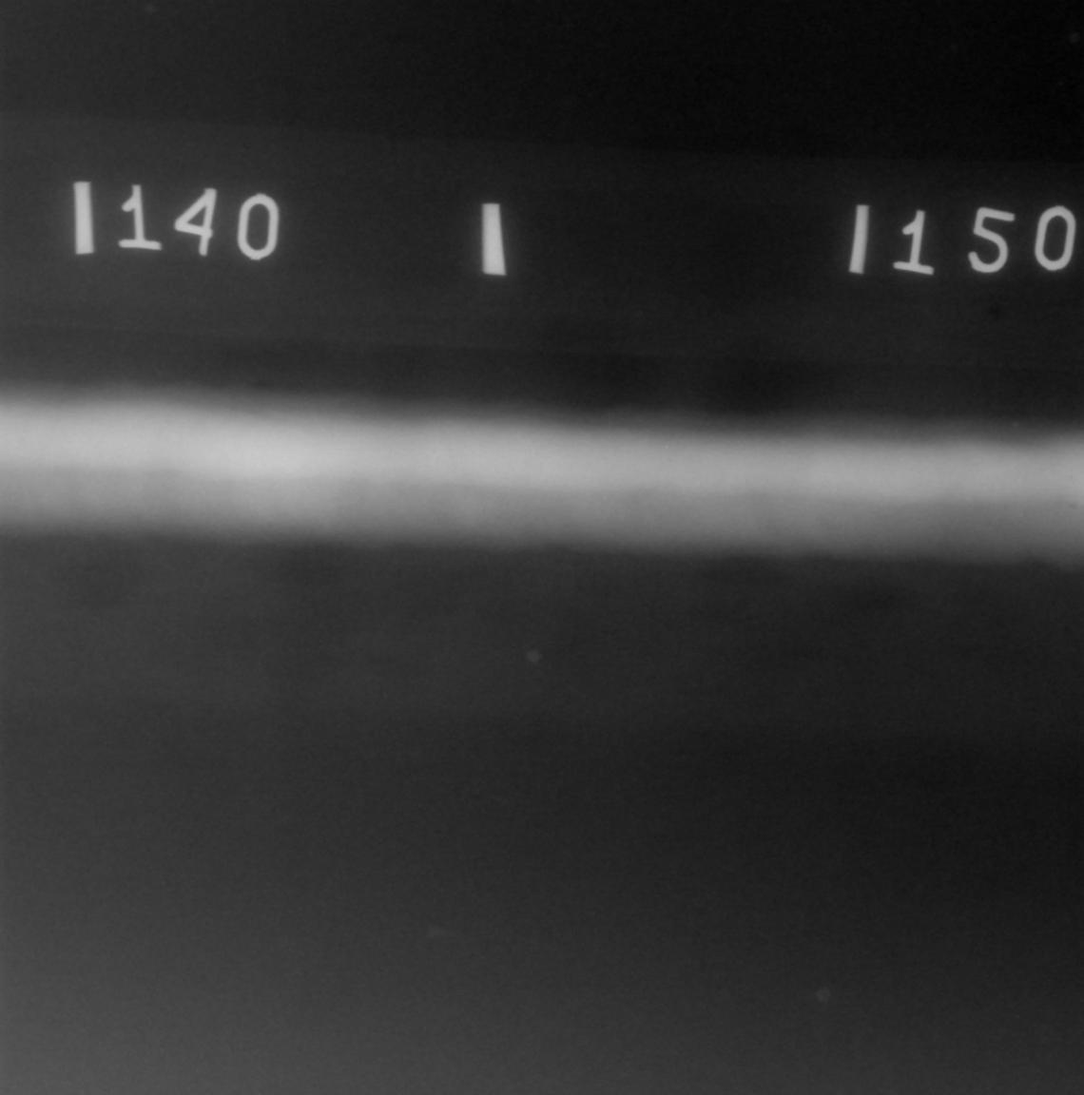Pore/Porosity: (1068, 503, 1077, 510)
